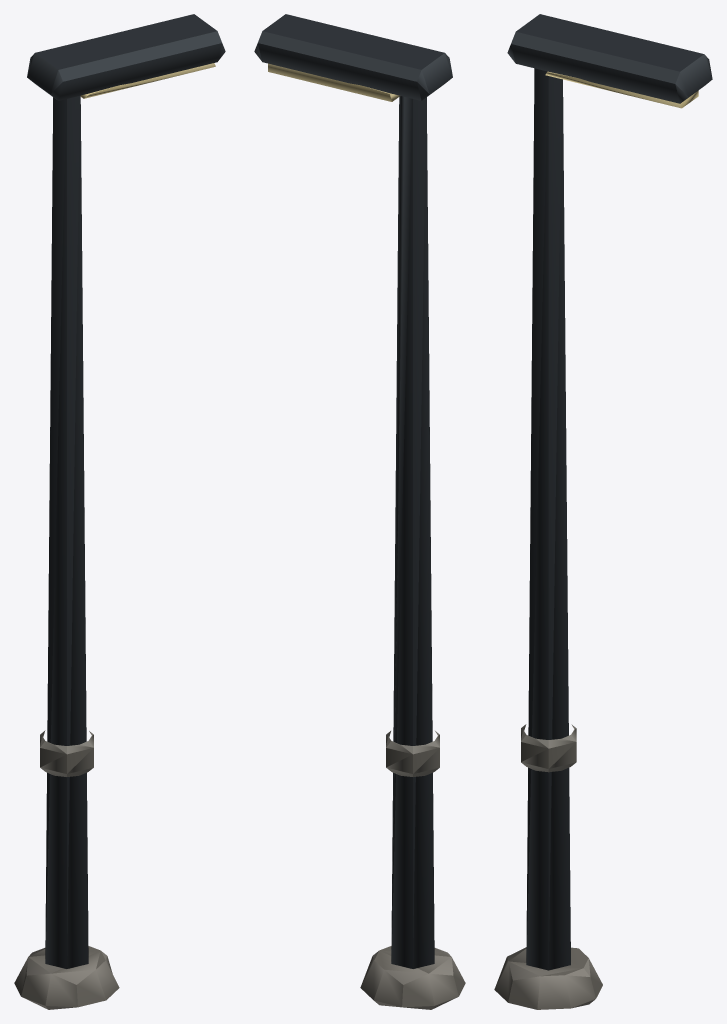
Rendered from street-lamp-v1.lod1.glb.
3 renders of one model, left to right at view 1: azimuth 30°, elevation 25°; view 2: azimuth 150°, elevation 25°; view 3: azimuth 330°, elevation 25°, orthographic. The views are drawn at different scales.
Visible parts, largest first — view 1: street-lamp-v1.lod1; view 2: street-lamp-v1.lod1; view 3: street-lamp-v1.lod1.
Part boxes in pixels (x1,y1,x2,y2): street-lamp-v1.lod1: [14, 14, 225, 1009]; street-lamp-v1.lod1: [254, 14, 465, 1009]; street-lamp-v1.lod1: [494, 14, 712, 1009].
Size of the model in its own units: 1.43 by 6.63 by 0.6467.
